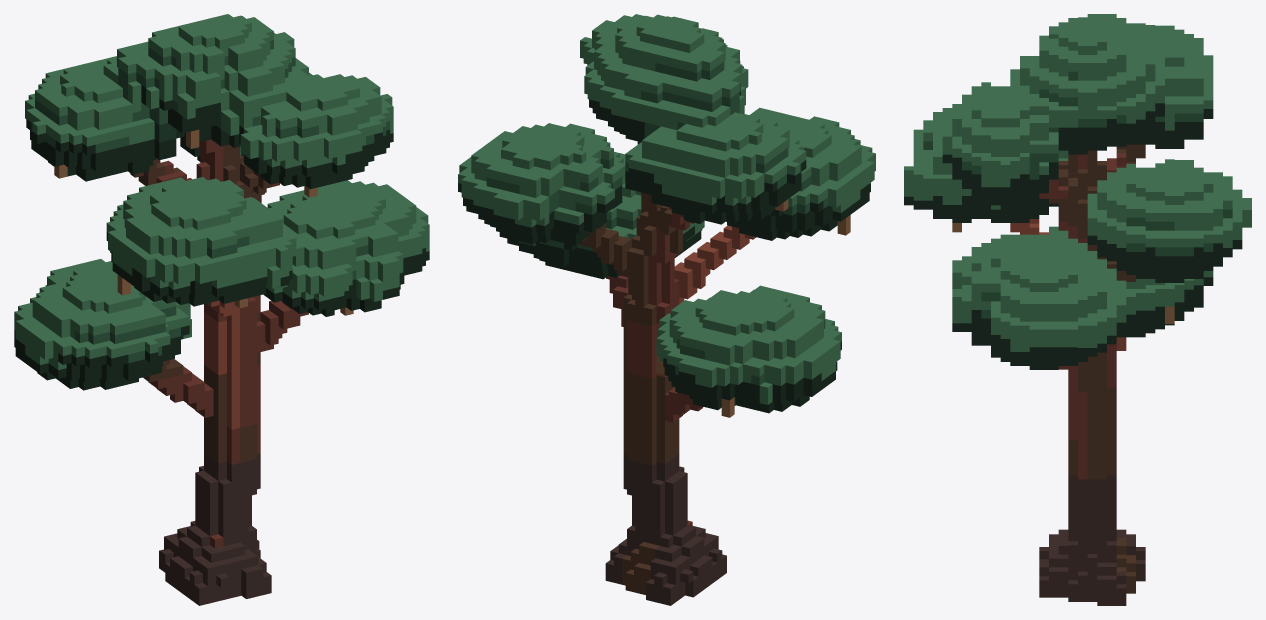
File: Mountain_Pine_v5.fbx
3 renders of one model, left to right at view 1: azimuth 30°, elevation 25°; view 2: azimuth 150°, elevation 25°; view 3: azimuth 270°, elevation 25°, orthographic.
Visible parts, largest first — view 1: Mountain_Pine_v5; view 2: Mountain_Pine_v5; view 3: Mountain_Pine_v5.
Boxes of the visible parts, x1,y1,x2,y2 form: Mountain_Pine_v5: (14, 14, 429, 605); Mountain_Pine_v5: (458, 14, 875, 605); Mountain_Pine_v5: (904, 14, 1251, 605).
Bounding box in the file's own units: 2.8 × 4.2 × 2.4.
Materials: 1 (1 with a texture image).
